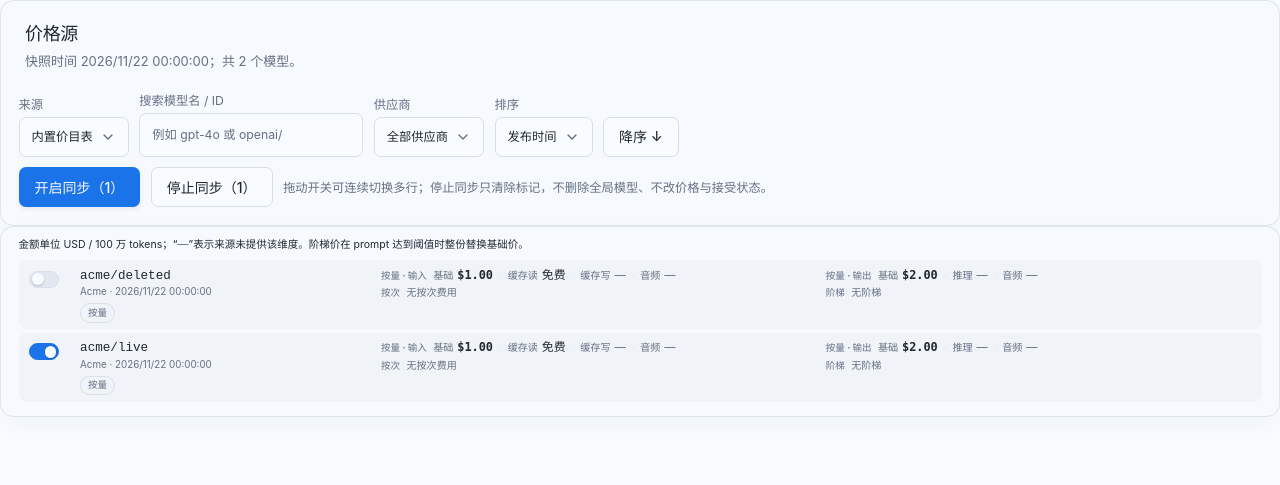
Test: price source catalog switches › renders a synced row off once its global model is deleted and installs on demand
Press the mouse on the switch named "开始同步 acme/deleted" at (44, 279), box 29,271 -> 59,288
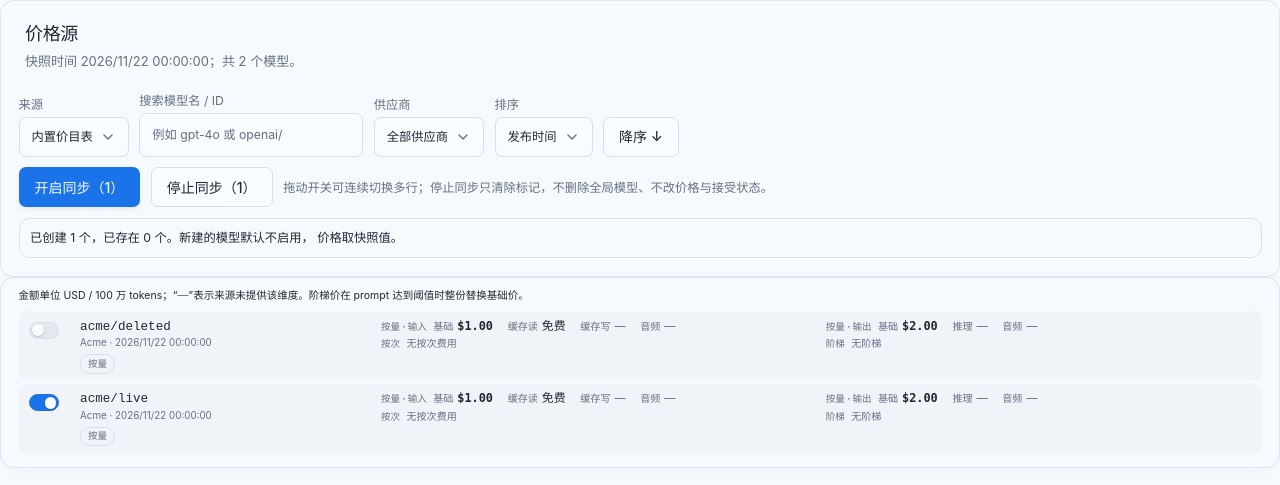
Expected: the message "已创建 1 个，已存在 0 个。新建的模型默认不启用， 价格取快照值。" is shown, 18,218 -> 1262,258
